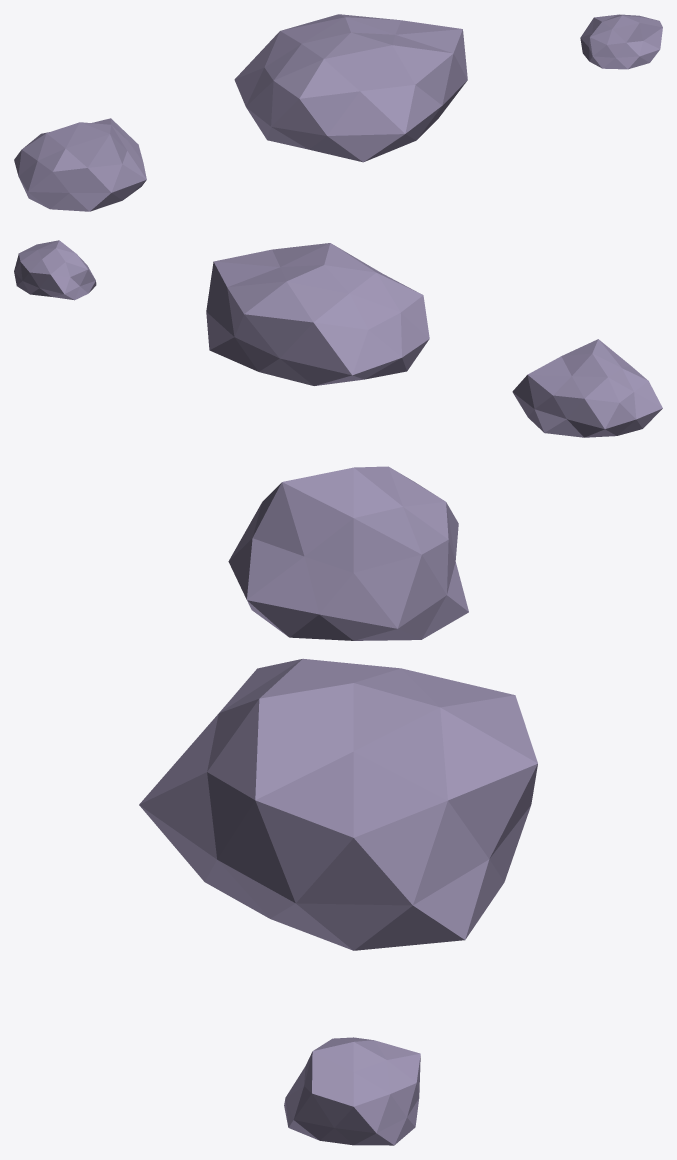
Rendered from batu_lembah_v001.glb.
3 renders of one model, top to bottom at view 1: azimuth 30°, elevation 25°; view 2: azimuth 150°, elevation 25°; view 3: azimuth 270°, elevation 25°, orthographic. The views are drawn at different scales.
Parts seen in each view (by area): view 1: batu_lembah_b, batu_lembah_a, batu_lembah_c; view 2: batu_lembah_b, batu_lembah_a, batu_lembah_c; view 3: batu_lembah_b, batu_lembah_a, batu_lembah_c.
Part boxes in pixels (box(x1,y1,x2,y2)): batu_lembah_b: box(234, 14, 467, 162); batu_lembah_a: box(14, 118, 146, 211); batu_lembah_c: box(580, 14, 662, 69); batu_lembah_b: box(206, 243, 429, 385); batu_lembah_a: box(512, 339, 662, 437); batu_lembah_c: box(14, 240, 96, 300); batu_lembah_b: box(139, 658, 537, 950); batu_lembah_a: box(228, 466, 468, 640); batu_lembah_c: box(284, 1037, 420, 1145).
Size of the model in its own units: 5.2 by 0.6807 by 1.42.
